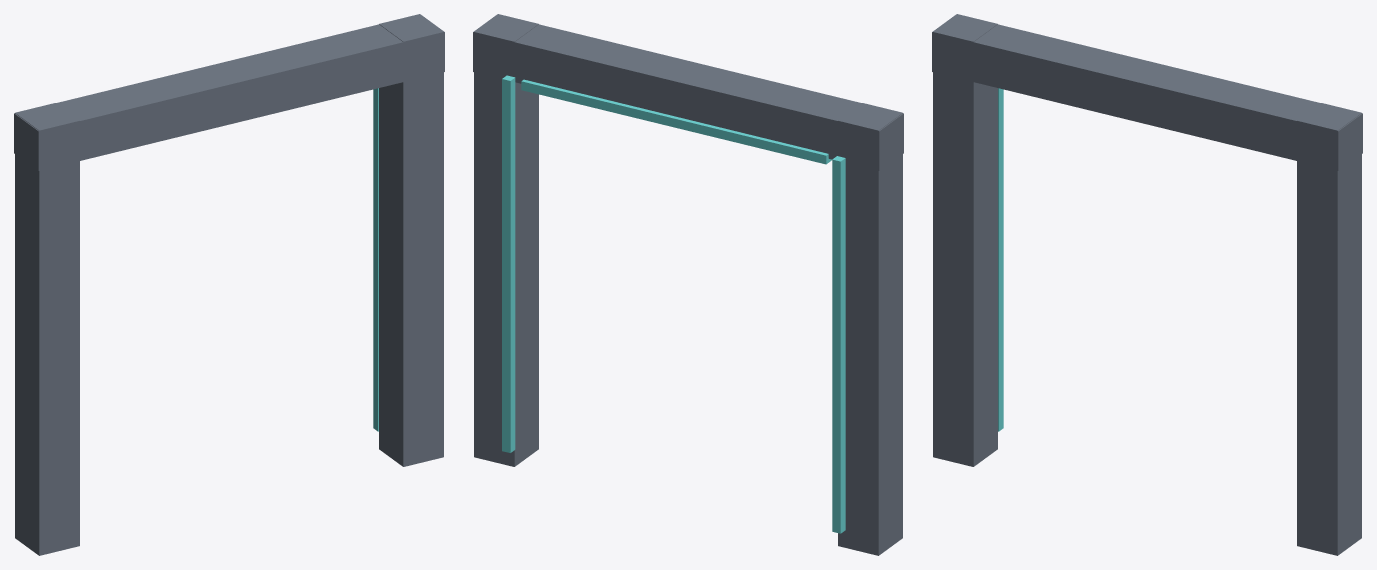
File: portal-arch.glb
3 views of the same model, side by side, from view 1: azimuth 30°, elevation 25°; view 2: azimuth 150°, elevation 25°; view 3: azimuth 330°, elevation 25° (orthographic).
Visible parts, largest first — view 1: world; view 2: world; view 3: world.
Boxes of the visible parts, x1=… form: world: x1=14, y1=14, x2=444, y2=555; world: x1=473, y1=14, x2=903, y2=555; world: x1=932, y1=14, x2=1362, y2=555.
Size of the model in its own units: 4.8 by 4.8 by 0.6.
